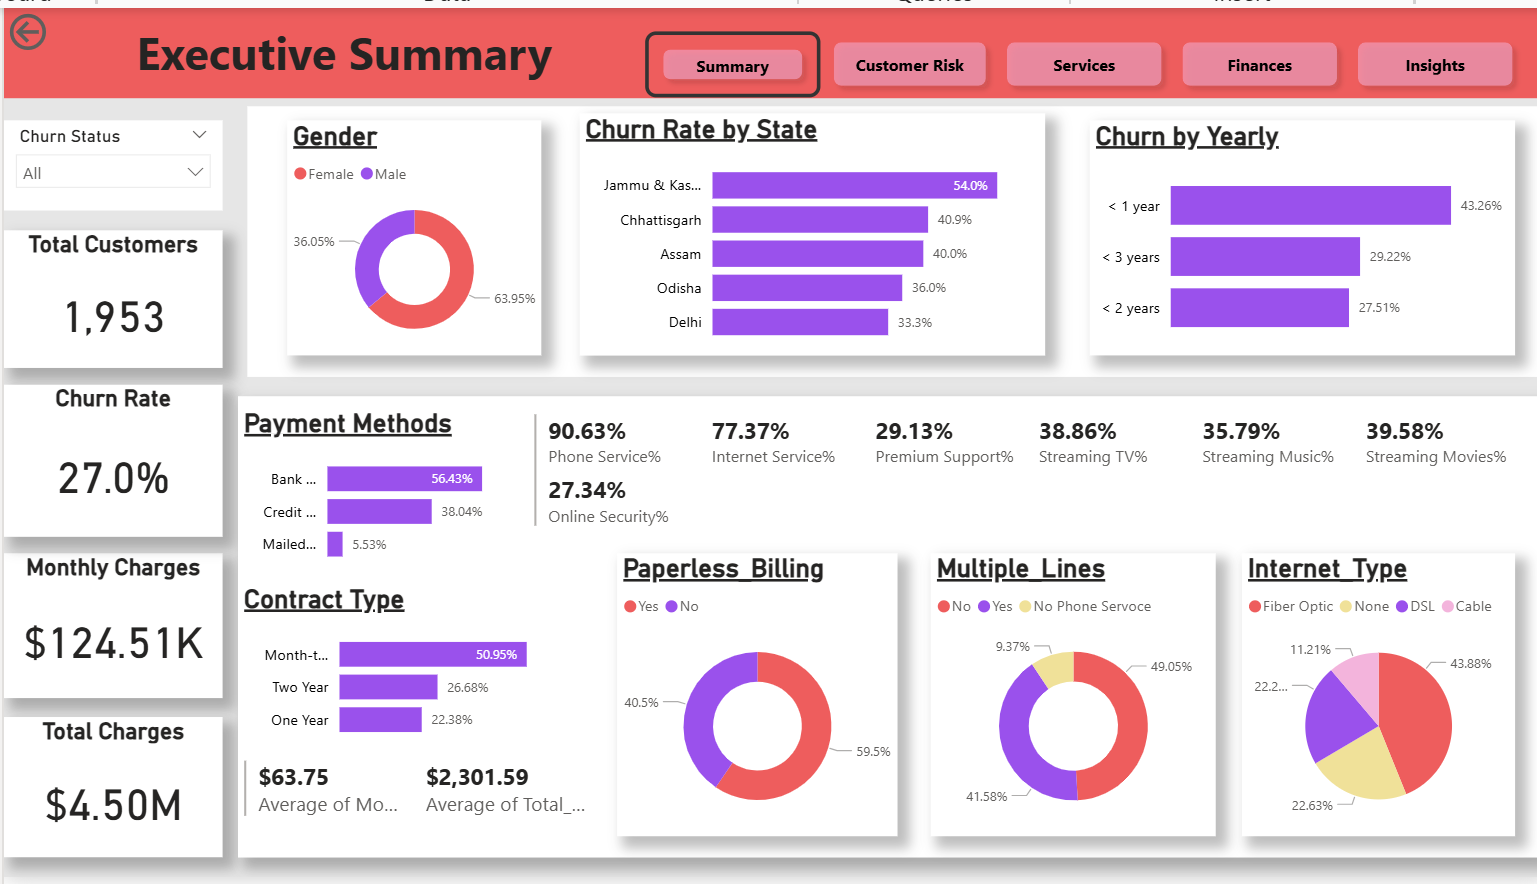

This screenshot's page, from the dashboard's own definition file:
{"tool":"powerbi","page":{"name":"Summary","canvas":[1280,720],"ordinal":1},"visuals":[{"type":"shape","box":[0,0,1280.4,74.9],"z":0},{"type":"card","title":"Total Customers","fields":{"Values":["Measures (2).Total Customer"]},"box":[0,185.2,181.2,114.2],"z":1000},{"type":"card","title":"Monthly Charges","fields":{"Values":["Sum(telecom cleaned_data.Monthly_Charge)"]},"box":[0,451.1,181.2,120.2],"z":2000},{"type":"card","title":"Total Charges","fields":{"Values":["Sum(telecom cleaned_data.Total_Charges)"]},"box":[0,587,181.2,116.2],"z":3000},{"type":"card","title":"Churn Rate","fields":{"Values":["Measures (2).Churn Rate"]},"box":[0,313.2,181.2,126.1],"z":4000},{"type":"slicer","title":"Marital Status","fields":{"Values":["telecom cleaned_data.Married"]},"box":[900.2,252.1,139.9,61.1],"z":5000},{"type":"shape","box":[202.5,80.8,1077.5,224.6],"z":6000},{"type":"donutChart","title":"Gender","fields":{"Category":["telecom cleaned_data.Gender"],"Y":["Measures (2).Total Customer"]},"box":[234.4,92.6,210.8,195],"z":7000},{"type":"shape","box":[193,321.1,1077.5,382.2],"z":8000},{"type":"clusteredBarChart","title":"Churn by Yearly","fields":{"Category":["telecom cleaned_data.Loyalty"],"Y":["Measures (2).Total Churn"]},"box":[900.2,92.6,352.6,195],"z":9000},{"type":"clusteredBarChart","title":"Payment Methods","fields":{"Category":["telecom cleaned_data.Payment_Method"],"Y":["CountNonNull(telecom cleaned_data.Payment_Method)"]},"box":[193,330.9,242.3,139.9],"z":10000},{"type":"clusteredBarChart","title":"Churn Rate by State","fields":{"Category":["telecom cleaned_data.State"],"Y":["Measures (2).Churn Rate"]},"box":[476.7,86.7,386.1,200.9],"z":11000},{"type":"clusteredBarChart","title":"Contract Type","fields":{"Category":["telecom cleaned_data.Contract"],"Y":["CountNonNull(telecom cleaned_data.Contract)"]},"box":[193,476.7,283.7,139.9],"z":12000},{"type":"multiRowCard","fields":{"Values":["Avg(telecom cleaned_data.Monthly_Charge)","Avg(telecom cleaned_data.Total_Charges)"]},"box":[193,618.5,299.4,84.7],"z":13000},{"type":"multiRowCard","fields":{"Values":["telecom cleaned_data.Percentage Phone Service","telecom cleaned_data.Percentage Internet Service","telecom cleaned_data.Percentage Premium Support","telecom cleaned_data.Percentage Streaming TV","telecom cleaned_data.Percentage Streaming Music","telecom cleaned_data.Percentage Streaming Movies","telecom cleaned_data.Percentage Online Security"]},"box":[435.3,330.9,835.2,120.2],"z":14000},{"type":"actionButton","box":[0,0,100,40],"z":15000},{"type":"donutChart","title":"Paperless_Billing","fields":{"Category":["telecom cleaned_data.Paperless_Billing"],"Y":["Measures (2).Total Customer"]},"box":[508.2,451.1,232.4,234.4],"z":16000},{"type":"donutChart","title":"Multiple_Lines","fields":{"Category":["telecom cleaned_data.Multiple_Lines"],"Y":["Measures (2).Total Customer"]},"box":[768.3,451.1,236.4,234.4],"z":17000},{"type":"pieChart","title":"Internet_Type","fields":{"Category":["telecom cleaned_data.Internet_Type"],"Y":["Measures (2).Total Customer"]},"box":[1026.3,451.1,226.5,234.4],"z":18000},{"type":"slicer","fields":{"Values":["telecom cleaned_data.Customer_Status"]},"box":[0,92.6,181.2,74.9],"z":19000},{"type":"textbox","box":[104.4,5.9,403.8,72.9],"z":20000},{"type":"actionButton","box":[532,19,145.2,54.7],"z":21000},{"type":"actionButton","box":[678,20,144,54],"z":22000},{"type":"actionButton","box":[822,20,146,54],"z":23000},{"type":"actionButton","box":[1114,20,146,54],"z":24000},{"type":"actionButton","box":[968,20,146,54],"z":25000}]}

Visuals, with their boxes on the page's 1280x720 design canvas (x1, y1, x2, y2). These are canvas units, not pixel positions in the 1537x884 screenshot, which may show the page scaled, cropped or inside an application window:
shape: <bbox>0, 0, 1280, 75</bbox>
"Total Customers" card: <bbox>0, 185, 181, 299</bbox>
"Monthly Charges" card: <bbox>0, 451, 181, 571</bbox>
"Total Charges" card: <bbox>0, 587, 181, 703</bbox>
"Churn Rate" card: <bbox>0, 313, 181, 439</bbox>
"Marital Status" slicer: <bbox>900, 252, 1040, 313</bbox>
shape: <bbox>202, 81, 1280, 305</bbox>
"Gender" donutChart: <bbox>234, 93, 445, 288</bbox>
shape: <bbox>193, 321, 1270, 703</bbox>
"Churn by Yearly" clusteredBarChart: <bbox>900, 93, 1253, 288</bbox>
"Payment Methods" clusteredBarChart: <bbox>193, 331, 435, 471</bbox>
"Churn Rate by State" clusteredBarChart: <bbox>477, 87, 863, 288</bbox>
"Contract Type" clusteredBarChart: <bbox>193, 477, 477, 617</bbox>
multiRowCard - Avg(telecom cleaned_data.Monthly_Charge) x Avg(telecom cleaned_data.Total_Charges): <bbox>193, 618, 492, 703</bbox>
multiRowCard - telecom cleaned_data.Percentage Phone Service x telecom cleaned_data.Percentage Internet Service: <bbox>435, 331, 1270, 451</bbox>
actionButton: <bbox>0, 0, 100, 40</bbox>
"Paperless_Billing" donutChart: <bbox>508, 451, 741, 686</bbox>
"Multiple_Lines" donutChart: <bbox>768, 451, 1005, 686</bbox>
"Internet_Type" pieChart: <bbox>1026, 451, 1253, 686</bbox>
slicer - telecom cleaned_data.Customer_Status: <bbox>0, 93, 181, 168</bbox>
textbox: <bbox>104, 6, 508, 79</bbox>
actionButton: <bbox>532, 19, 677, 74</bbox>
actionButton: <bbox>678, 20, 822, 74</bbox>
actionButton: <bbox>822, 20, 968, 74</bbox>
actionButton: <bbox>1114, 20, 1260, 74</bbox>
actionButton: <bbox>968, 20, 1114, 74</bbox>
